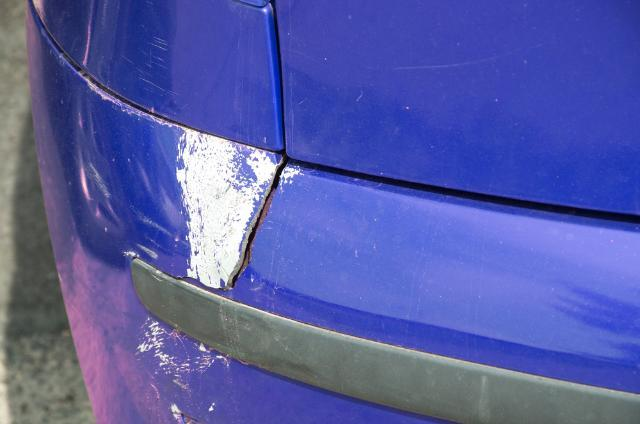crack: (227, 154, 289, 291)
scratch: (135, 319, 232, 424)
